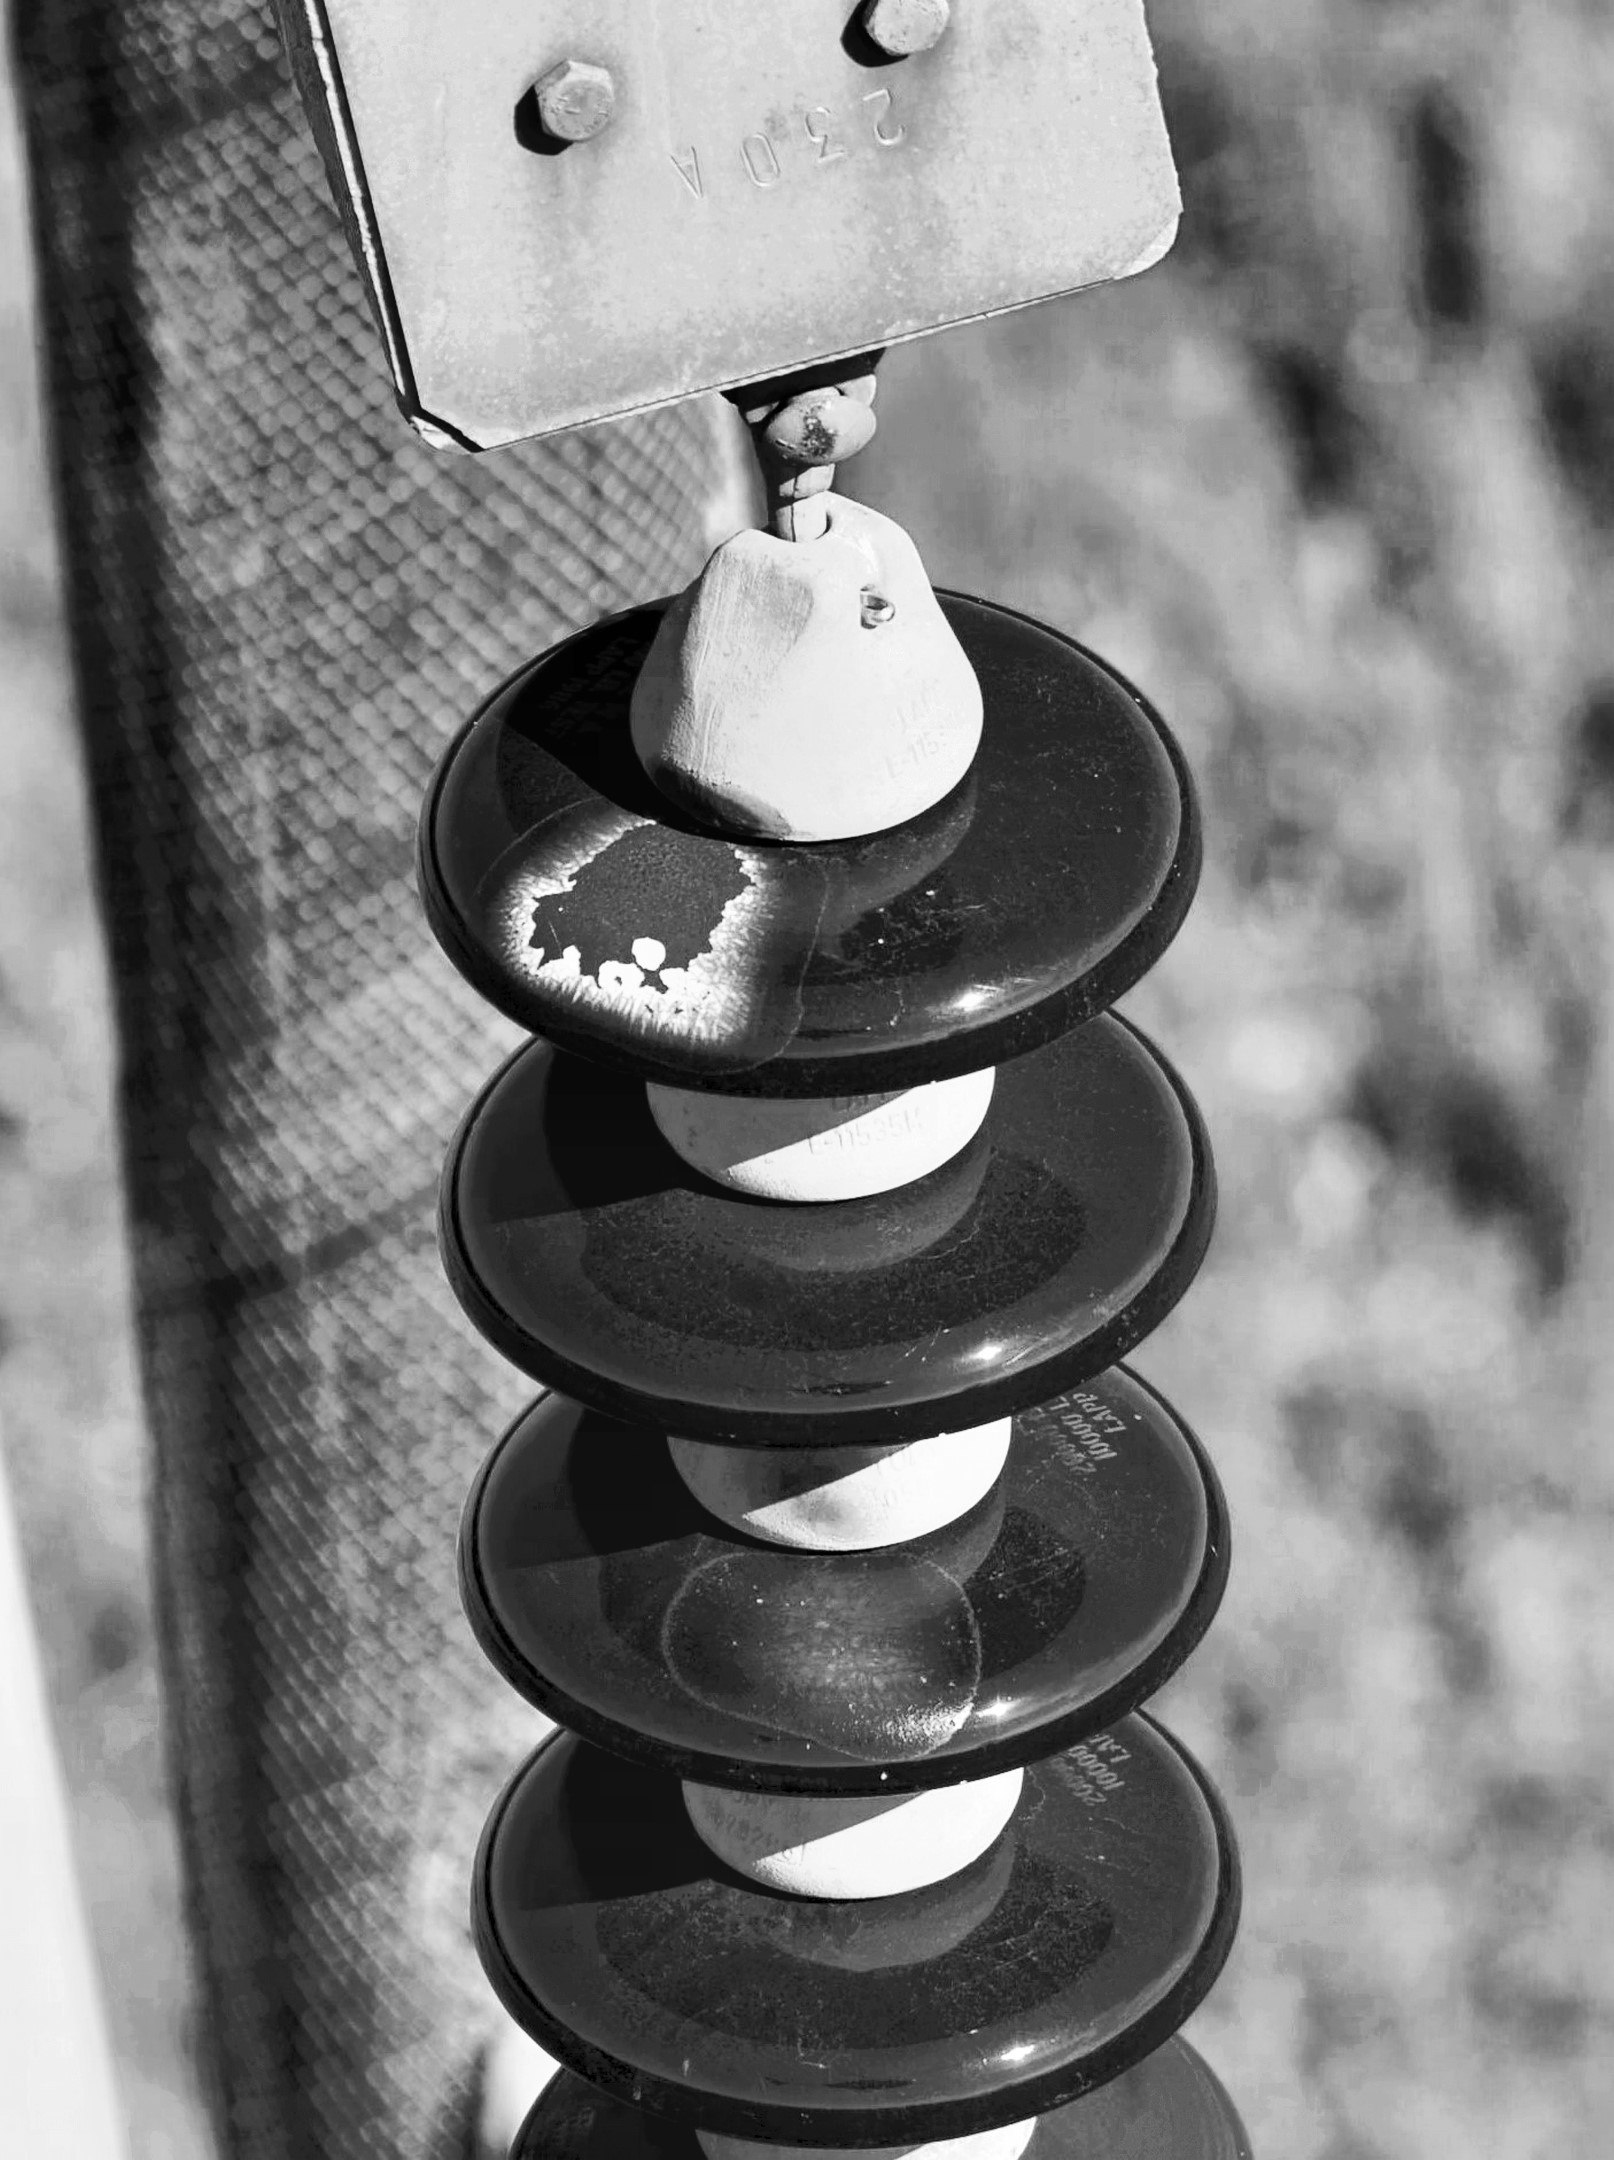Insulator flashover: (392, 571, 1222, 1109)
